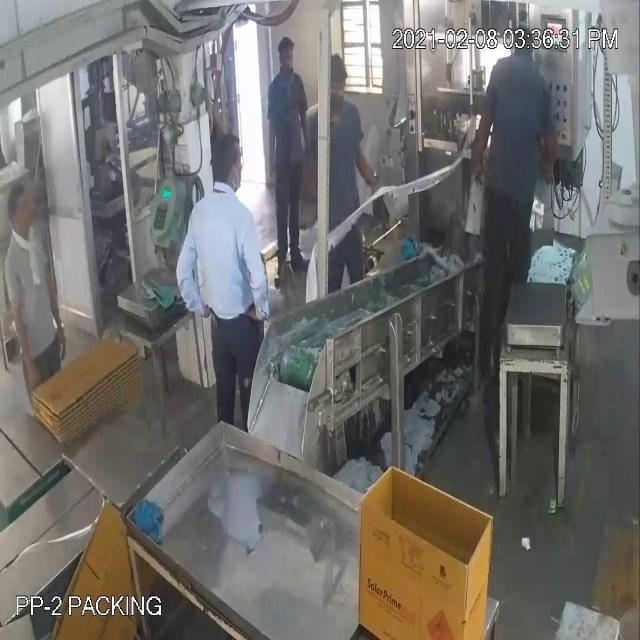No_Gloves: (22, 62, 484, 338)
